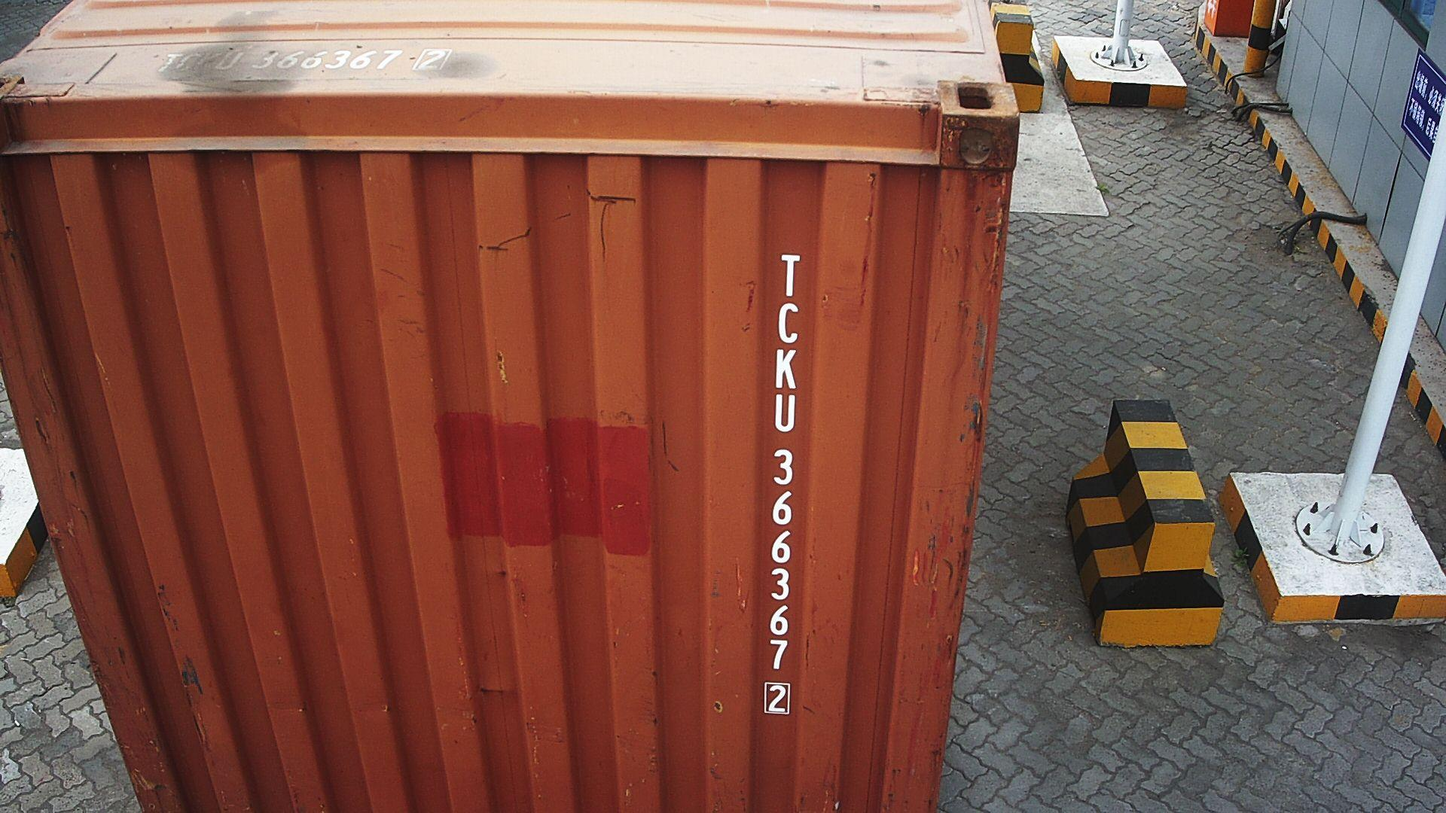container-numbers: (759, 249, 807, 720), (148, 44, 474, 79)
